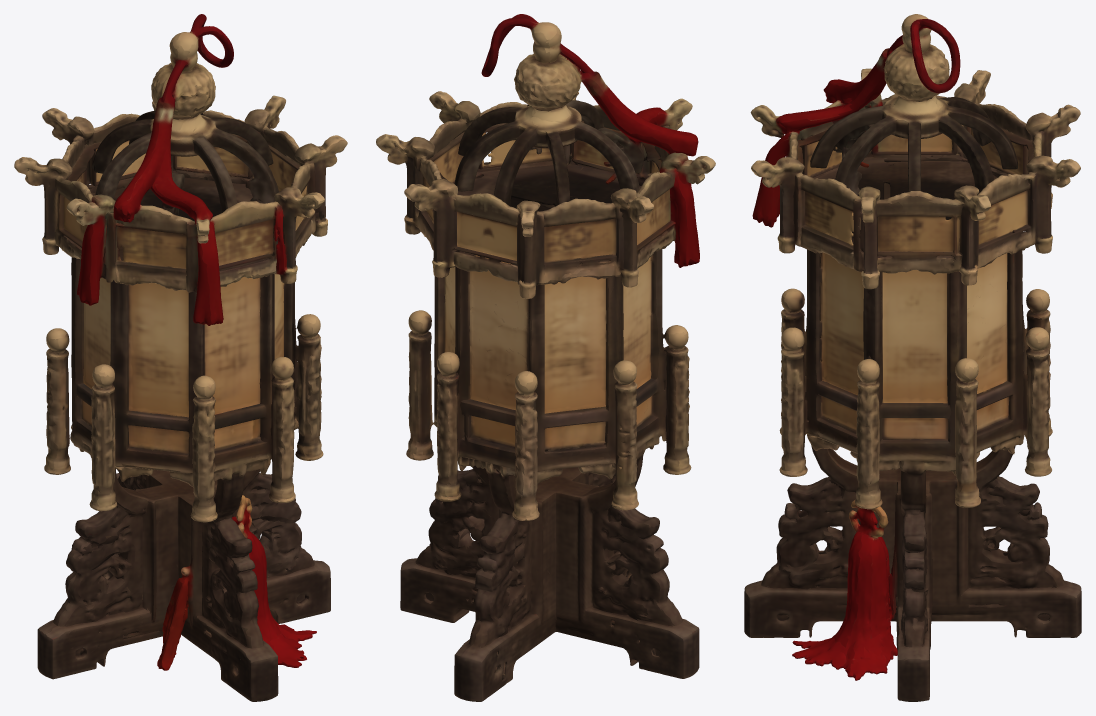
File: lantern.glb
3 renders of one model, left to right at view 1: azimuth 30°, elevation 25°; view 2: azimuth 150°, elevation 25°; view 3: azimuth 270°, elevation 25°, orthographic. The views are drawn at different scales.
Parts seen in each view (by area): view 1: world; view 2: world; view 3: world.
Boxes of the visible parts, bbox=[...] form: world: bbox=[14, 14, 347, 701]; world: bbox=[376, 14, 715, 701]; world: bbox=[744, 14, 1081, 701].
Size of the model in its own units: 0.3325 by 0.68 by 0.3344.
Materials: 1 (1 with a texture image).
